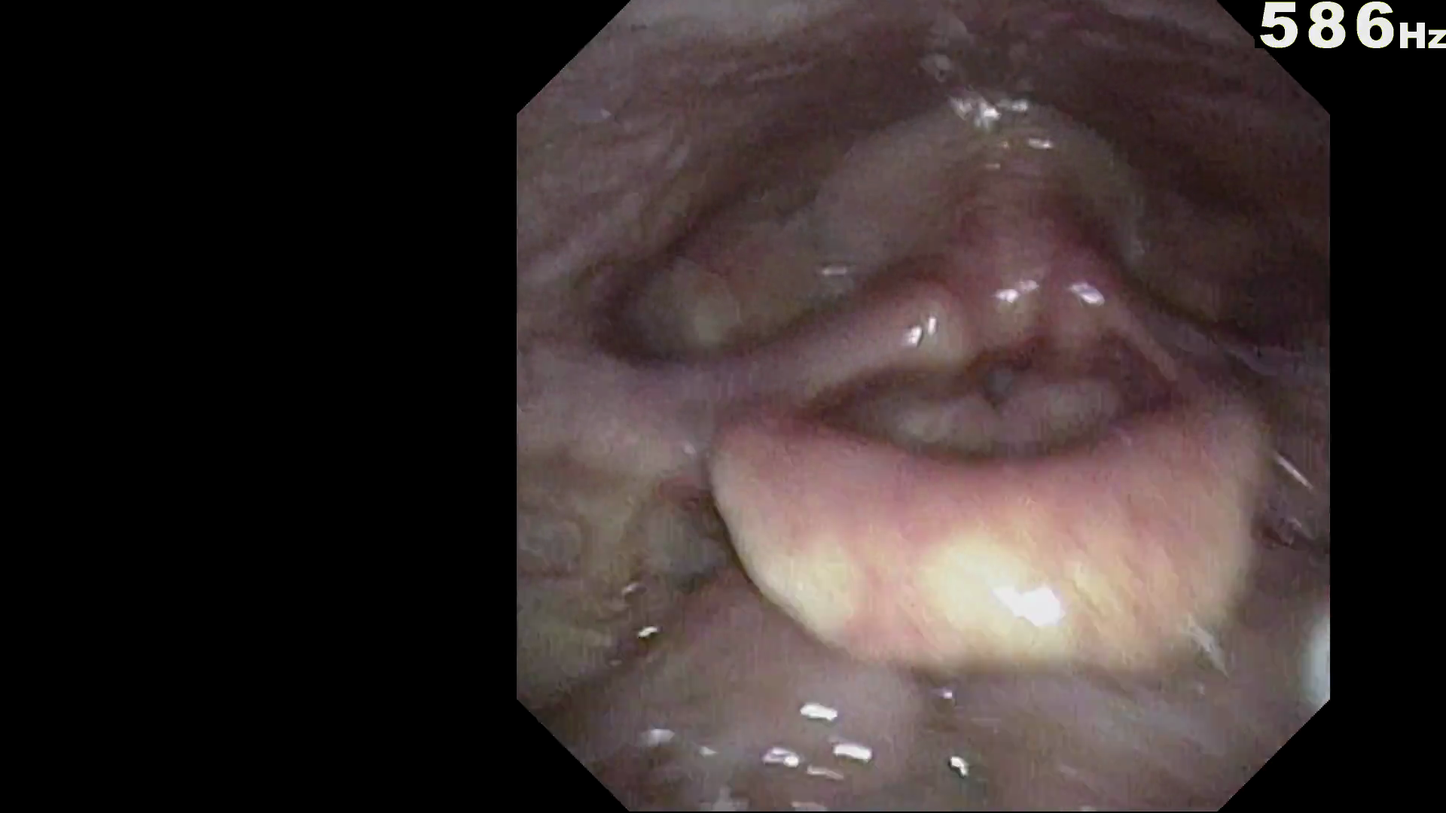epiglottis: (718, 415, 1258, 595)
